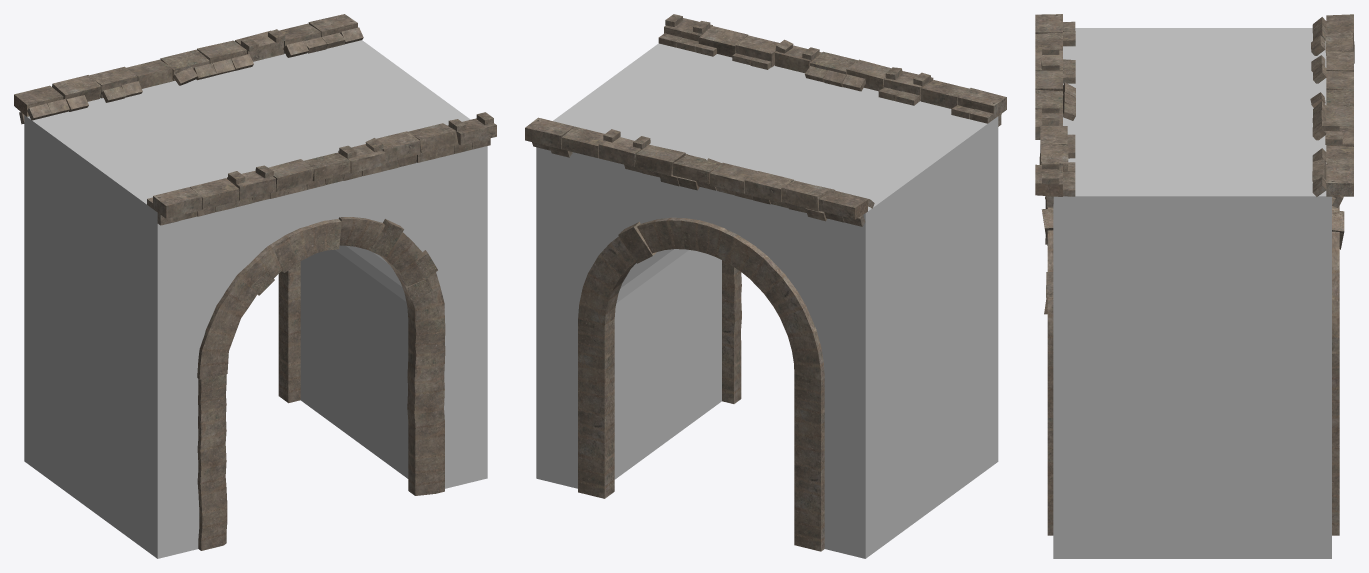
File: SM_Bridge02.FBX
3 views of the same model, side by side, from view 1: azimuth 30°, elevation 25°; view 2: azimuth 150°, elevation 25°; view 3: azimuth 270°, elevation 25° (orthographic). The views are drawn at different scales.
Parts seen in each view (by area): view 1: SM_Bridge02; view 2: SM_Bridge02; view 3: SM_Bridge02.
Boxes of the visible parts, x1,y1,x2,y2 form: SM_Bridge02: (14, 14, 496, 558); SM_Bridge02: (525, 14, 1006, 558); SM_Bridge02: (1035, 14, 1354, 558).
Bounding box in the file's own units: 1809 × 1445 × 1912.
